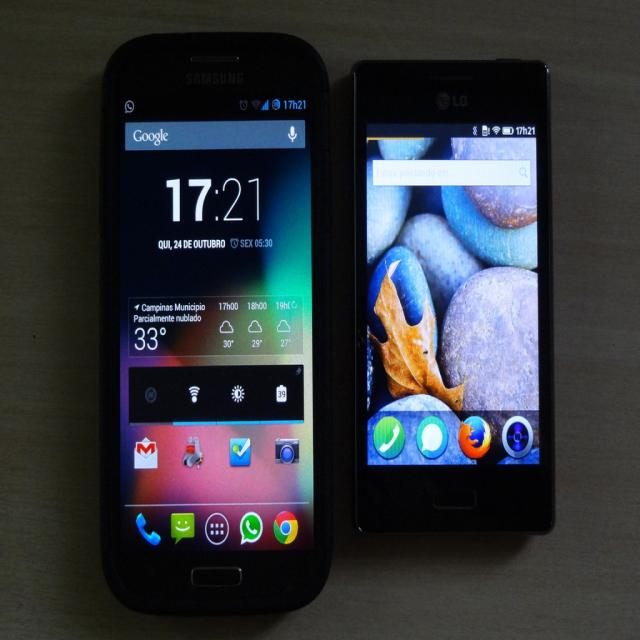Mobile-phone: (98, 29, 334, 640), (346, 59, 555, 549)
